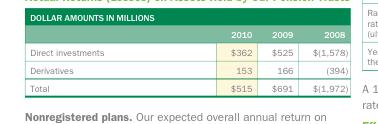table: (29, 28, 347, 93)
table column: (29, 28, 166, 93), (166, 28, 261, 93), (302, 28, 347, 93), (261, 28, 302, 93)
table column header: (29, 28, 347, 43)
table row: (29, 43, 347, 61), (29, 61, 347, 79), (29, 28, 347, 43), (29, 79, 347, 93)
